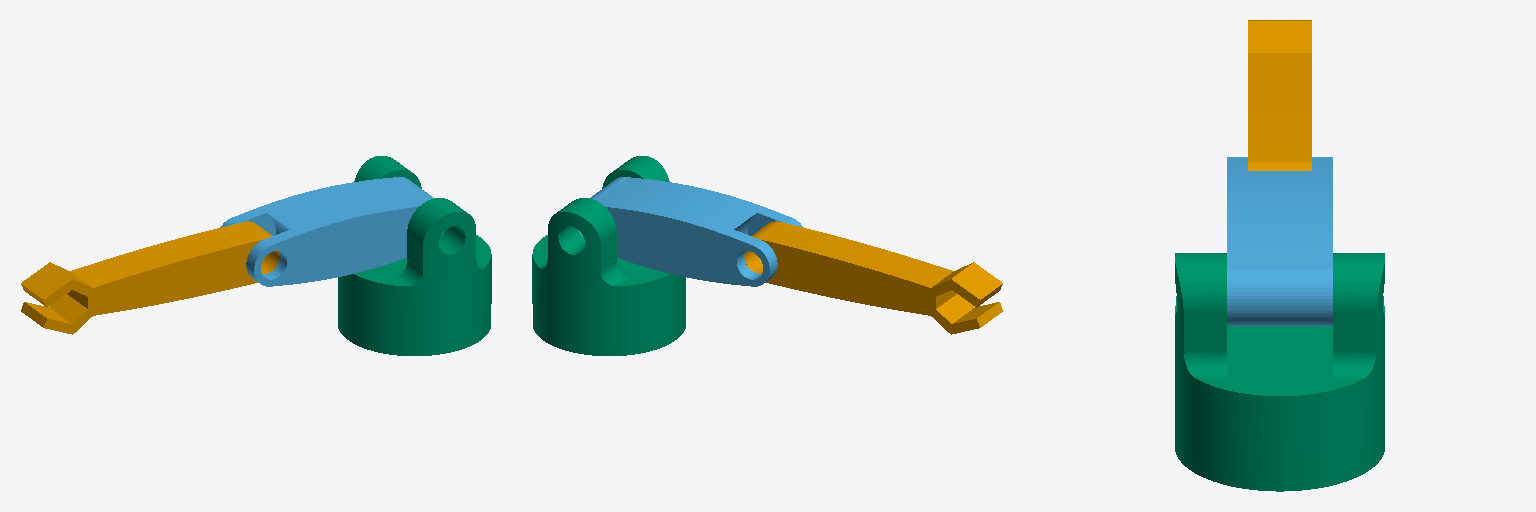
robot.urdf — 2_DOF_Arm:
<?xml version='1.0' encoding='utf-8'?>
<robot name="2_DOF_Arm">
    <link name="link_2-v1">
        <inertial>
            <origin xyz="-0.07182895353767453 7.977618565746525e-14 0.015" rpy="0.0 -0.0 0.0" />
            <mass value="0.9700376189400554" />
            <inertia ixx="0.00014583185081259303" iyy="0.002187198981222771" izz="0.0021875251891943573" ixy="-5.554584570077736e-15" iyz="0.0" ixz="1.7763568394002505e-19" />
        </inertial>
        <visual name="link_2-v1_visual">
            <origin xyz="5.329070518200751e-17 0.1140544408267181 -2.4424906541753444e-17" rpy="1.5707963267948966 -1.942890293094024e-16 -1.5707963267948966" />
            <geometry>
                <mesh filename="meshes/link_2-v1.stl" scale="0.001 0.001 0.001" />
            </geometry>
        </visual>
        <collision name="link_2-v1_collision">
            <origin xyz="5.329070518200751e-17 0.1140544408267181 -2.4424906541753444e-17" rpy="1.5707963267948966 -1.942890293094024e-16 -1.5707963267948966" />
            <geometry>
                <mesh filename="meshes/link_2-v1.stl" scale="0.001 0.001 0.001" />
            </geometry>
        </collision>
    </link>
    <link name="link_1-v1">
        <inertial>
            <origin xyz="-0.05384668015559082 1.1523226817189426e-13 0.025" rpy="0.0 -0.0 0.0" />
            <mass value="1.56676803613673" />
            <inertia ixx="0.0005390260808662787" iyy="0.002019751721611335" izz="0.0018561547247422164" ixy="-3.529294911874814e-15" iyz="-7.105427357601002e-19" ixz="3.552713678800501e-19" />
        </inertial>
        <visual name="link_1-v1_visual">
            <origin xyz="0.0 -0.13667302144222404 2.6645352591003756e-17" rpy="1.5707963267948966 -1.942890293094024e-16 -1.5707963267948966" />
            <geometry>
                <mesh filename="meshes/link_1-v1.stl" scale="0.001 0.001 0.001" />
            </geometry>
        </visual>
        <collision name="link_1-v1_collision">
            <origin xyz="0.0 -0.13667302144222404 2.6645352591003756e-17" rpy="1.5707963267948966 -1.942890293094024e-16 -1.5707963267948966" />
            <geometry>
                <mesh filename="meshes/link_1-v1.stl" scale="0.001 0.001 0.001" />
            </geometry>
        </collision>
    </link>
    <link name="base-v1">
        <inertial>
            <origin xyz="-1.9333720083624828e-07 0.0 0.032247668227870056" rpy="0.0 0.0 0.0" />
            <mass value="3.6557700996304954" />
            <inertia ixx="0.004523745069605812" iyy="0.003805447280798372" izz="0.004737255244651733" ixy="2.8558133635669947e-18" iyz="1.4279066817834973e-18" ixz="1.6575499242394378e-08" />
        </inertial>
        <visual name="base-v1_visual">
            <origin xyz="0.0 0.0 0.0" rpy="0.0 0.0 0.0" />
            <geometry>
                <mesh filename="meshes/base-v1.stl" scale="0.001 0.001 0.001" />
            </geometry>
        </visual>
        <collision name="base-v1_collision">
            <origin xyz="0.0 0.0 0.0" rpy="0.0 0.0 0.0" />
            <geometry>
                <mesh filename="meshes/base-v1.stl" scale="0.001 0.001 0.001" />
            </geometry>
        </collision>
    </link>
    <joint name="base-v1_Revolute-1" type="revolute">
        <origin xyz="0.0 -0.025 0.08" rpy="-1.5707963267948966 -0.0 0.0" />
        <parent link="base-v1" />
        <child link="link_1-v1" />
        <axis xyz="0.0 0.0 1.0" />
        <limit lower="0.0" upper="3.141593" effort="1000000" velocity="1000000" />
    </joint>
    <joint name="link_1-v1_Revolute-2" type="revolute">
        <origin xyz="-0.12 0.0 0.01" rpy="0.0 -0.0 0.0" />
        <parent link="link_1-v1" />
        <child link="link_2-v1" />
        <axis xyz="0.0 0.0 1.0" />
        <limit lower="-1.570796" upper="1.570796" effort="1000000" velocity="1000000" />
    </joint>
</robot>

--- What the picture shows (computed from the rendered views, not written in the file) ---
Views: 3 orthographic renders of the robot side by side, from view 1: azimuth 30°, elevation 25°; view 2: azimuth 150°, elevation 25°; view 3: azimuth 270°, elevation 25°.
Robot: 2_DOF_Arm — 3 links, 2 joints (2 revolute); root link base-v1; default pose: all joints at 0.
Visible links, largest first — view 1: base-v1, link_2-v1, link_1-v1; view 2: base-v1, link_2-v1, link_1-v1; view 3: base-v1, link_1-v1, link_2-v1.
Boxes of the visible links, box(x1,y1,x2,y2) form: base-v1: box(338, 156, 491, 355); link_2-v1: box(21, 221, 279, 334); link_1-v1: box(220, 177, 444, 286); base-v1: box(532, 156, 685, 355); link_2-v1: box(744, 221, 1002, 334); link_1-v1: box(579, 177, 803, 286); base-v1: box(1175, 253, 1384, 491); link_1-v1: box(1227, 157, 1332, 325); link_2-v1: box(1248, 20, 1311, 170).
Bounding box of the posed robot: 0.3372 × 0.1 × 0.1 m (x, y, z).
3 mesh visuals loaded from 3 distinct referenced files (3 binary STL).
